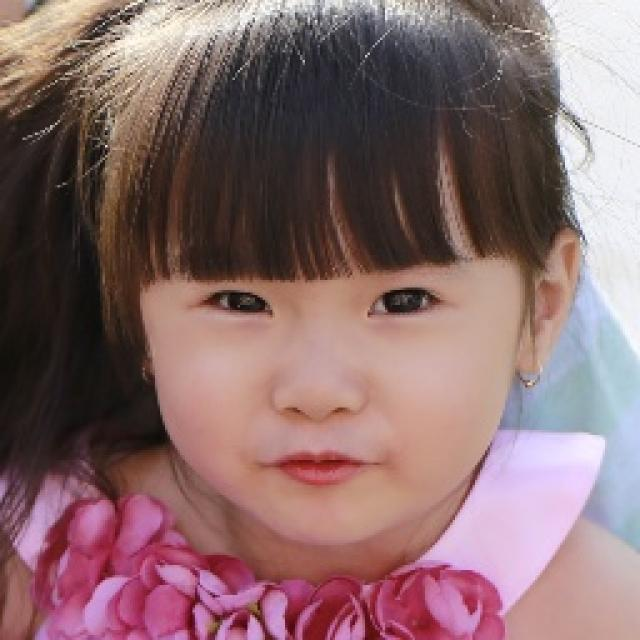earlobe: (515, 324, 551, 374)
eye: (364, 286, 447, 317), (200, 288, 274, 321)
nose: (274, 406, 364, 444)
wholeear: (516, 227, 582, 374)
